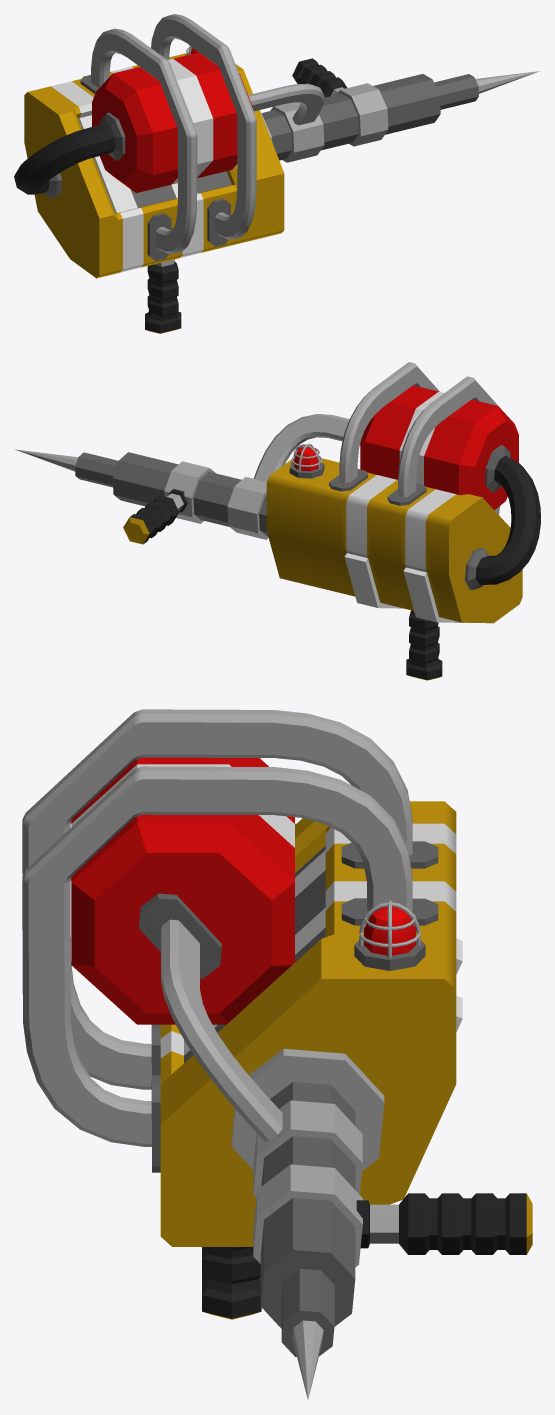
File: Lo-Sha_Tool_2.fbx
3 views of the same model, one above another, from view 1: azimuth 30°, elevation 25°; view 2: azimuth 150°, elevation 25°; view 3: azimuth 270°, elevation 25° (orthographic). The views are drawn at different scales.
Parts seen in each view (by area): view 1: pCube2, pCube3, pCube4, pCube9, pCube10, pCube11, pCylinder4, pCylinder3; view 2: pCube2, pCube4, pCube3, pCube11, pCube9, pCube10, pCylinder4, pCylinder3, pCylinder8; view 3: pCube2, pCube4, pCube10, pCube3, pCube9, pCylinder3, pCylinder4, pCylinder8.
Boxes of the visible parts, box(x1,y1,x2,y2) form: pCube2: box(24, 53, 284, 278); pCube3: box(92, 52, 252, 193); pCube4: box(248, 71, 539, 162); pCube9: box(80, 28, 197, 260); pCube10: box(151, 14, 256, 246); pCube11: box(14, 112, 125, 198); pCylinder4: box(145, 259, 181, 333); pCylinder3: box(292, 58, 347, 97); pCube2: box(266, 458, 522, 623); pCube4: box(14, 414, 360, 539); pCube3: box(360, 385, 518, 509); pCube11: box(465, 445, 540, 589); pCube9: box(387, 376, 500, 514); pCube10: box(329, 362, 439, 491); pCylinder4: box(406, 610, 442, 680); pCylinder3: box(123, 489, 187, 544); pCylinder8: box(289, 446, 324, 478); pCube2: box(160, 801, 462, 1246); pCube4: box(139, 893, 384, 1399); pCube10: box(22, 766, 438, 1172); pCube3: box(71, 757, 294, 1024); pCube9: box(22, 709, 438, 1089); pCylinder3: box(356, 1193, 532, 1254); pCylinder4: box(202, 1247, 261, 1319); pCylinder8: box(354, 906, 425, 970).
Size of the model in its own units: 139 by 74.06 by 59.71.
